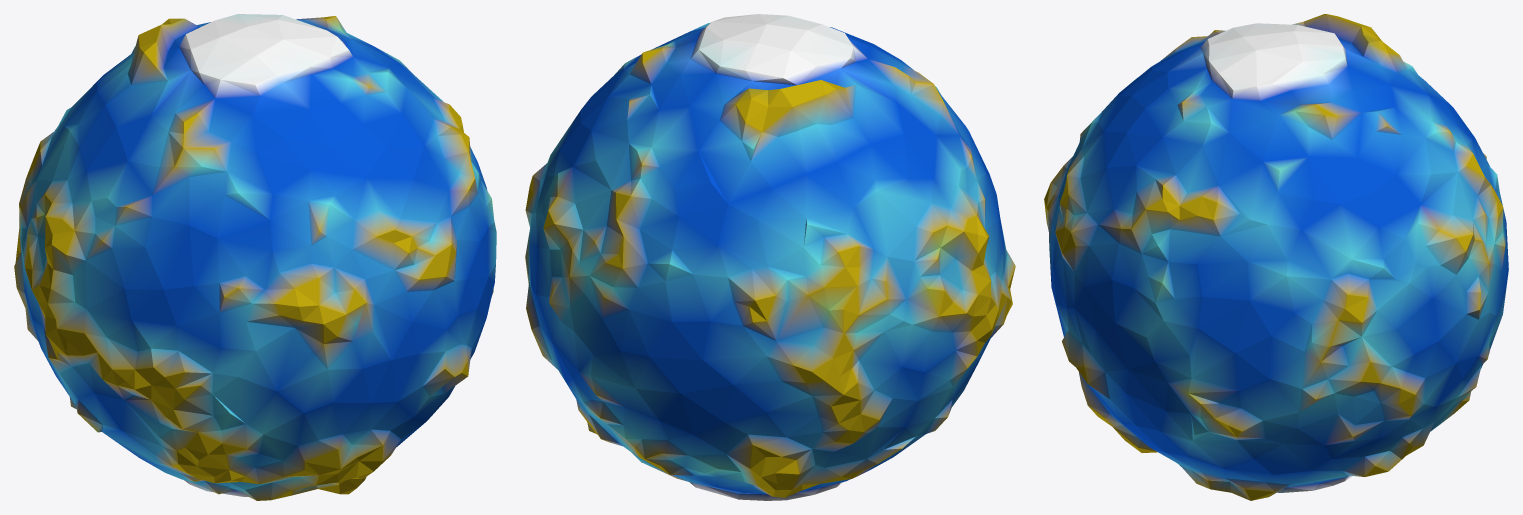
Rendered from planet_70.fbx.
3 renders of one model, left to right at view 1: azimuth 30°, elevation 25°; view 2: azimuth 150°, elevation 25°; view 3: azimuth 270°, elevation 25°, orthographic. The views are drawn at different scales.
Parts seen in each view (by area): view 1: file1; view 2: file1; view 3: file1.
Part boxes in pixels (x1,y1,x2,y2): file1: [14, 14, 496, 500]; file1: [525, 14, 1015, 500]; file1: [1044, 14, 1508, 500].
Bounding box in the file's own units: 2.07 × 2.05 × 2.03.
